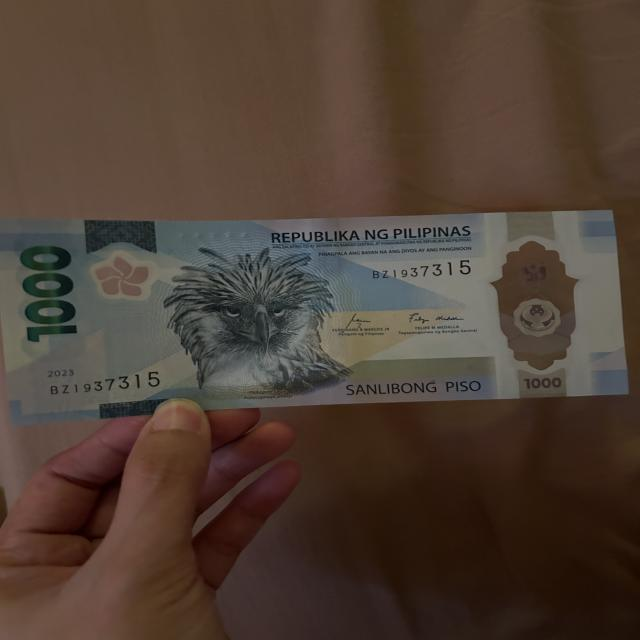clear_window: (482, 240, 574, 370)
eagle: (170, 250, 334, 392)
sampaguita: (92, 254, 159, 298)
